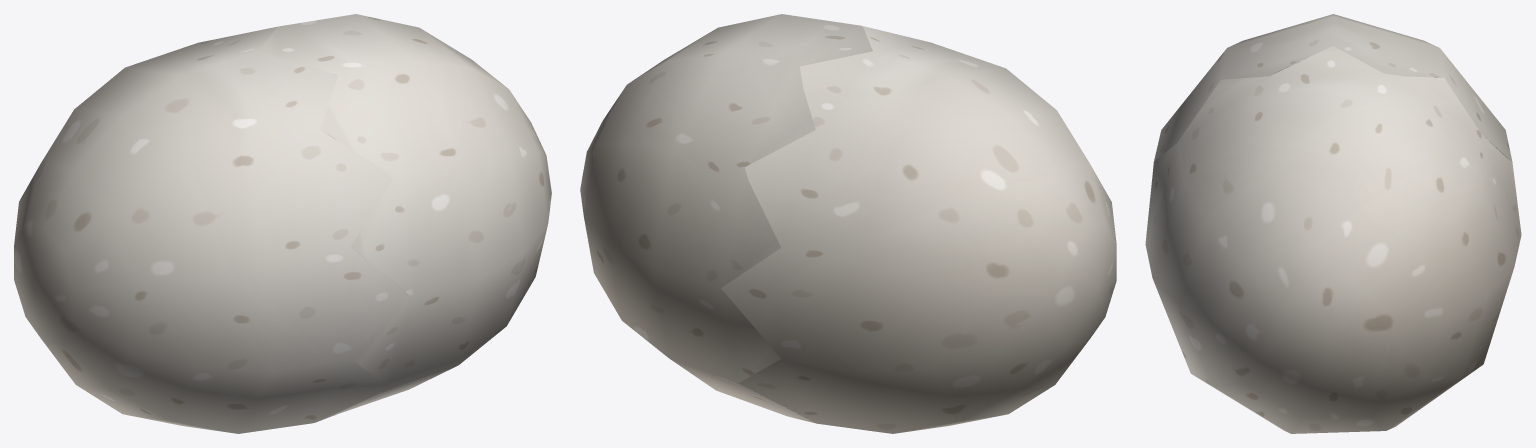
The model's file is dinoegg.fbx.
3 views of the same model, side by side, from view 1: azimuth 30°, elevation 25°; view 2: azimuth 150°, elevation 25°; view 3: azimuth 270°, elevation 25° (orthographic). The views are drawn at different scales.
Parts seen in each view (by area): view 1: pSphere26, pSphere27; view 2: pSphere26, pSphere27; view 3: pSphere27, pSphere26.
Part boxes in pixels (x1=…): pSphere26: x1=14, y1=26, x2=410, y2=433; pSphere27: x1=259, y1=14, x2=551, y2=422; pSphere26: x1=721, y1=26, x2=1116, y2=433; pSphere27: x1=580, y1=14, x2=872, y2=423; pSphere27: x1=1145, y1=46, x2=1521, y2=433; pSphere26: x1=1146, y1=14, x2=1512, y2=234.
Bounding box in the file's own units: 2.83 × 1.97 × 1.98.
Materials: 1 (1 with a texture image).
